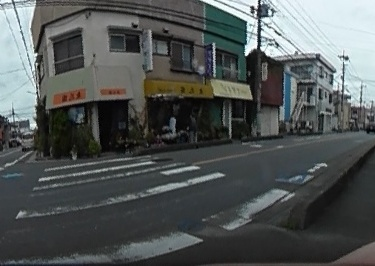person: (186, 113, 199, 142)
